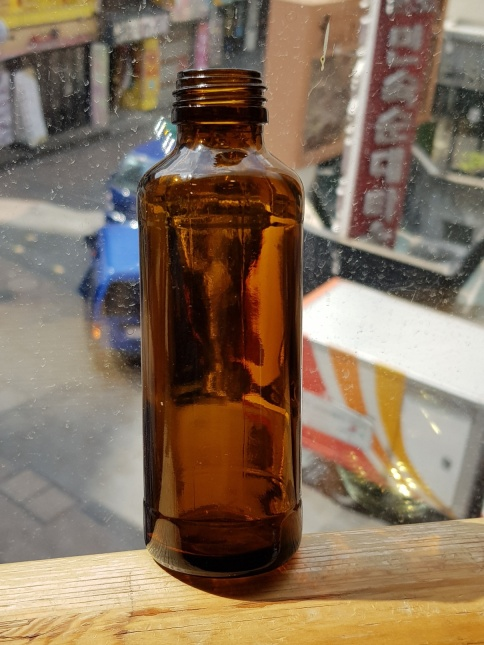Glass: (131, 63, 315, 582)
